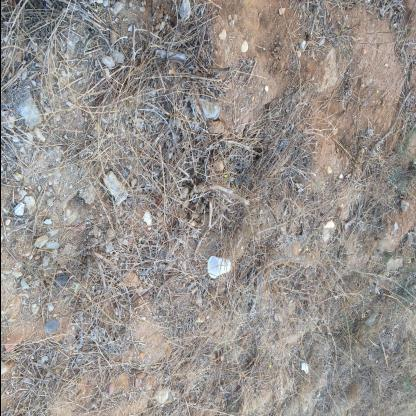karton: (207, 256, 231, 280)
